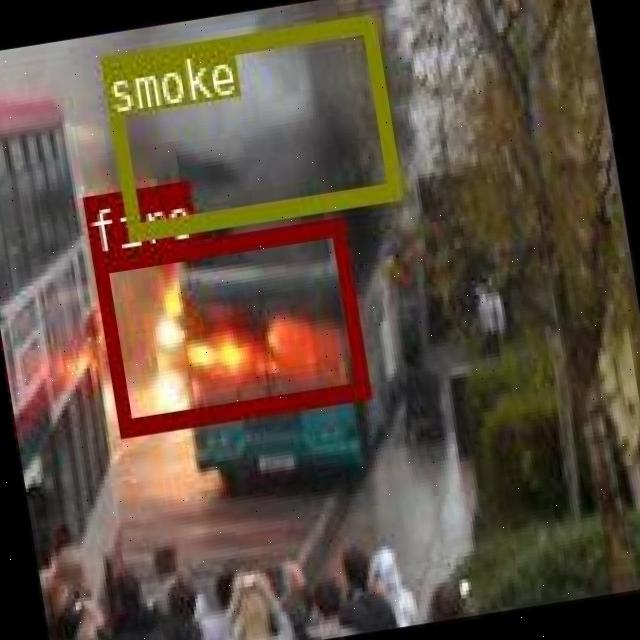fire: (89, 218, 367, 433)
smoke: (98, 12, 398, 240)
